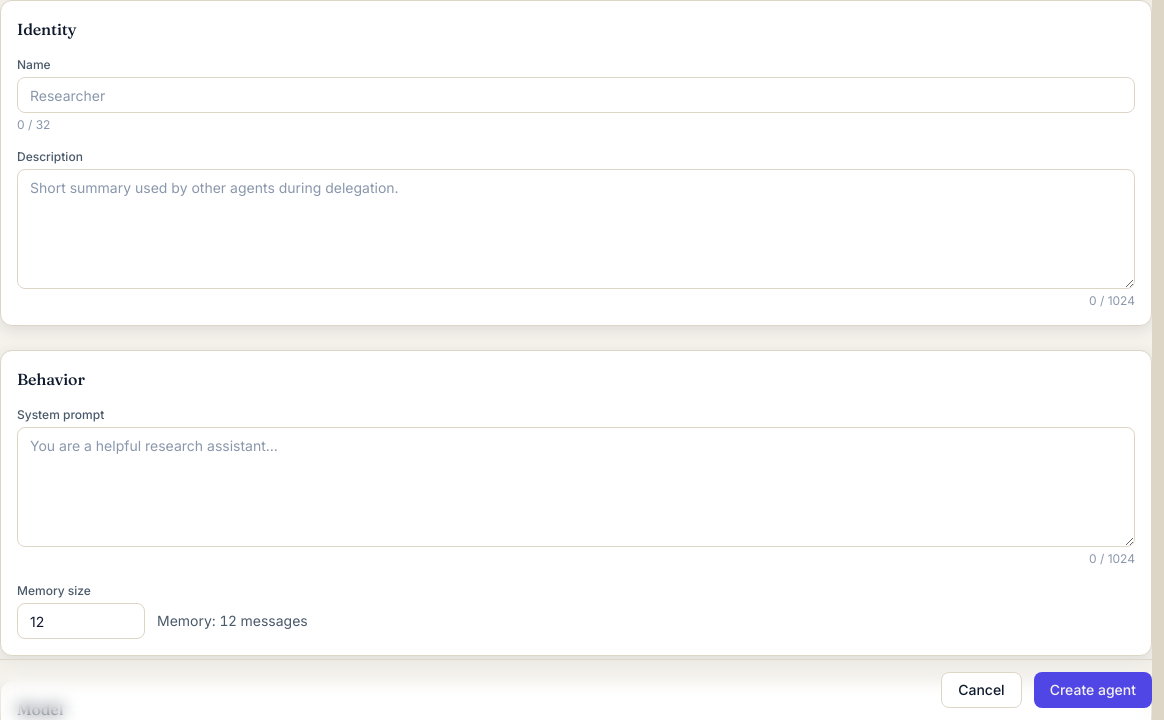
Scenario: AgentForm — create mode › 409 DUPLICATE_AGENT_NAME: sets a name field error with the conflict copy
This screenshot has width=1164, height=720.
In the field labelled "Name": (576, 95) [17,77,1135,113], type "dupe"
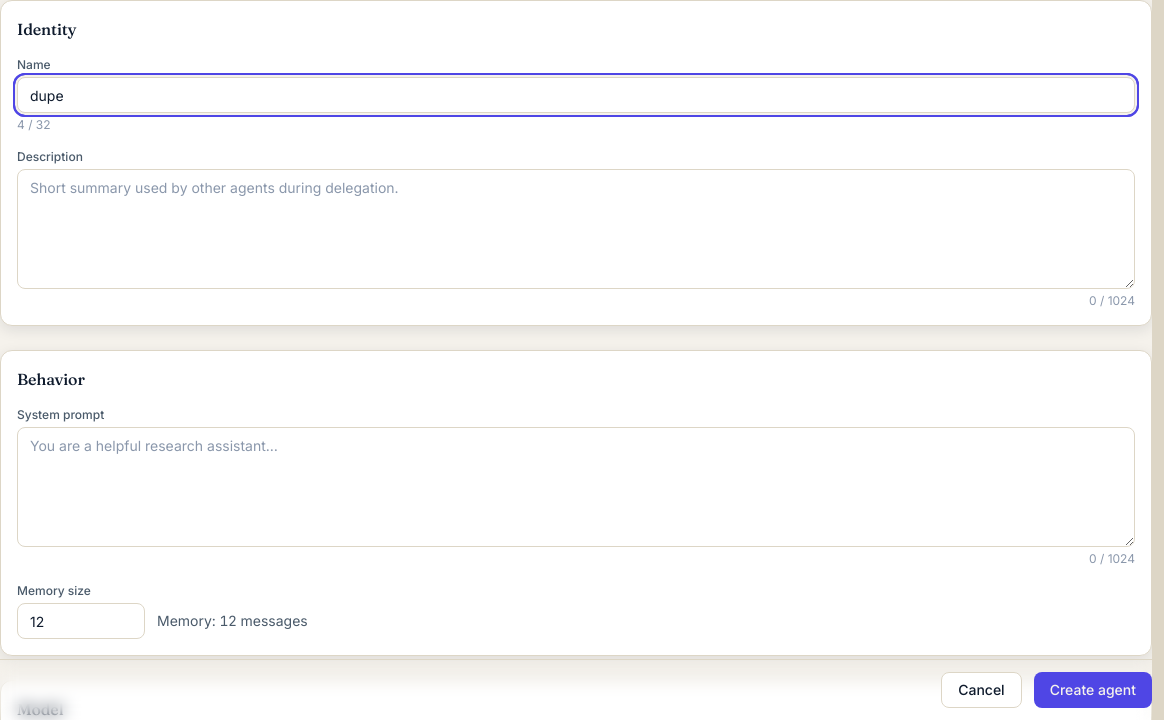
In the text box labelled "Description": (576, 229) [17,169,1135,289], type "d"
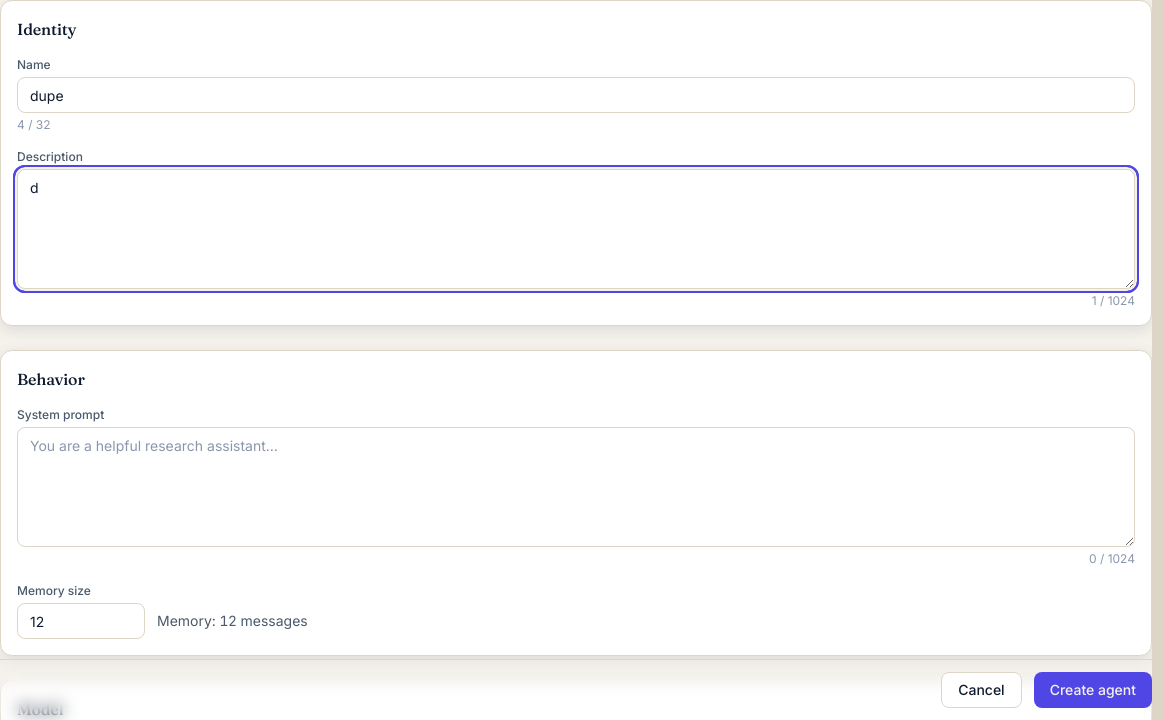
In the text box labelled "System prompt": (576, 487) [17,427,1135,547], type "s"
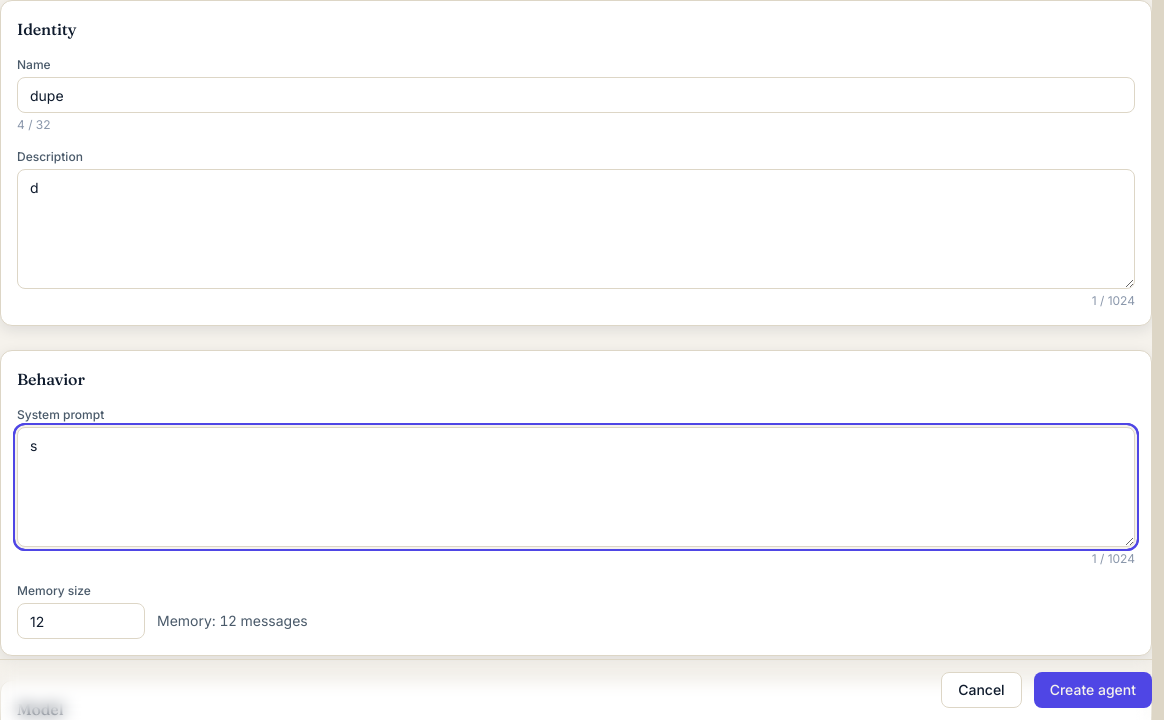
Click the button "Create agent": (1093, 690) [1034,672,1152,708]
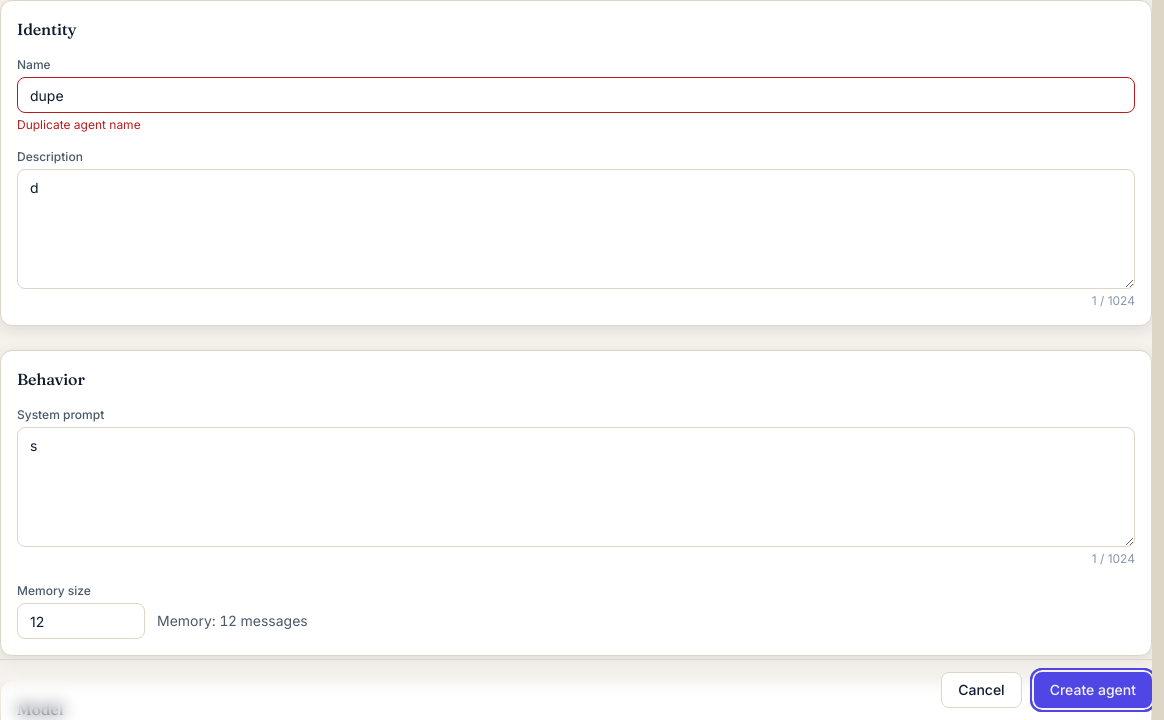
Expected: the text "Duplicate agent name" is shown, [17,117,141,132]
